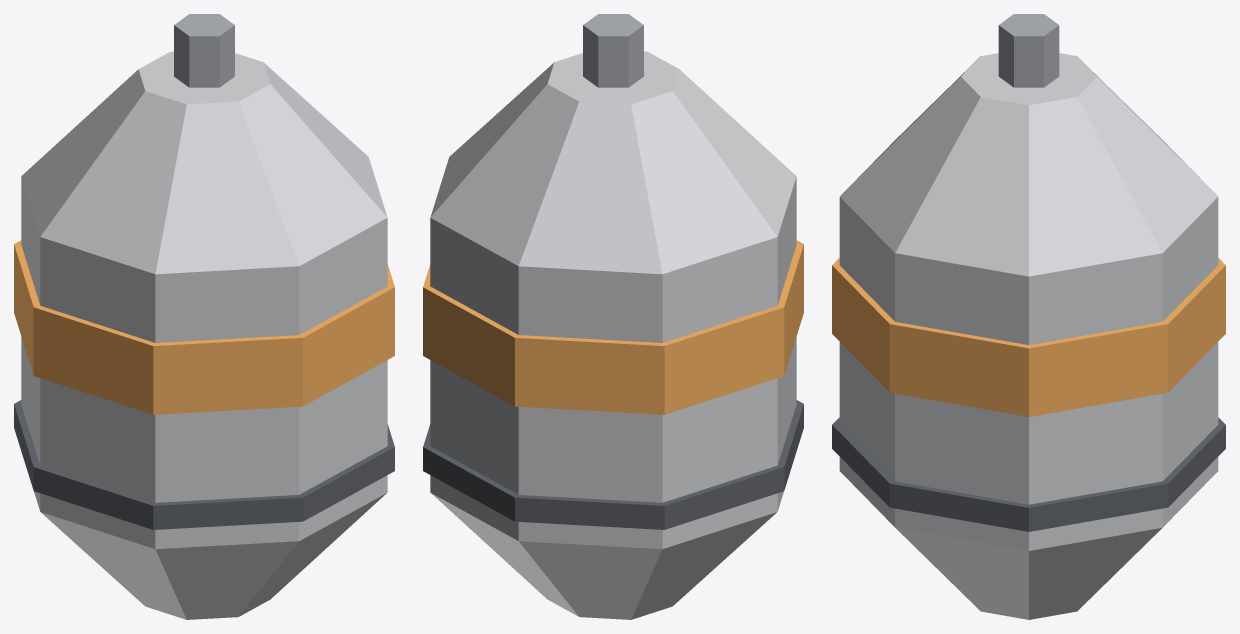
File: tank_small.glb
The picture shows the model from 3 angles, left to right: view 1: azimuth 30°, elevation 25°; view 2: azimuth 150°, elevation 25°; view 3: azimuth 270°, elevation 25°; orthographic projection.
Parts seen in each view (by area): view 1: tank_small; view 2: tank_small; view 3: tank_small.
Boxes of the visible parts, x1=… form: tank_small: x1=14, y1=14, x2=394, y2=619; tank_small: x1=423, y1=14, x2=803, y2=619; tank_small: x1=832, y1=14, x2=1225, y2=619.
Size of the model in its own units: 1.04 by 1.65 by 1.04.
